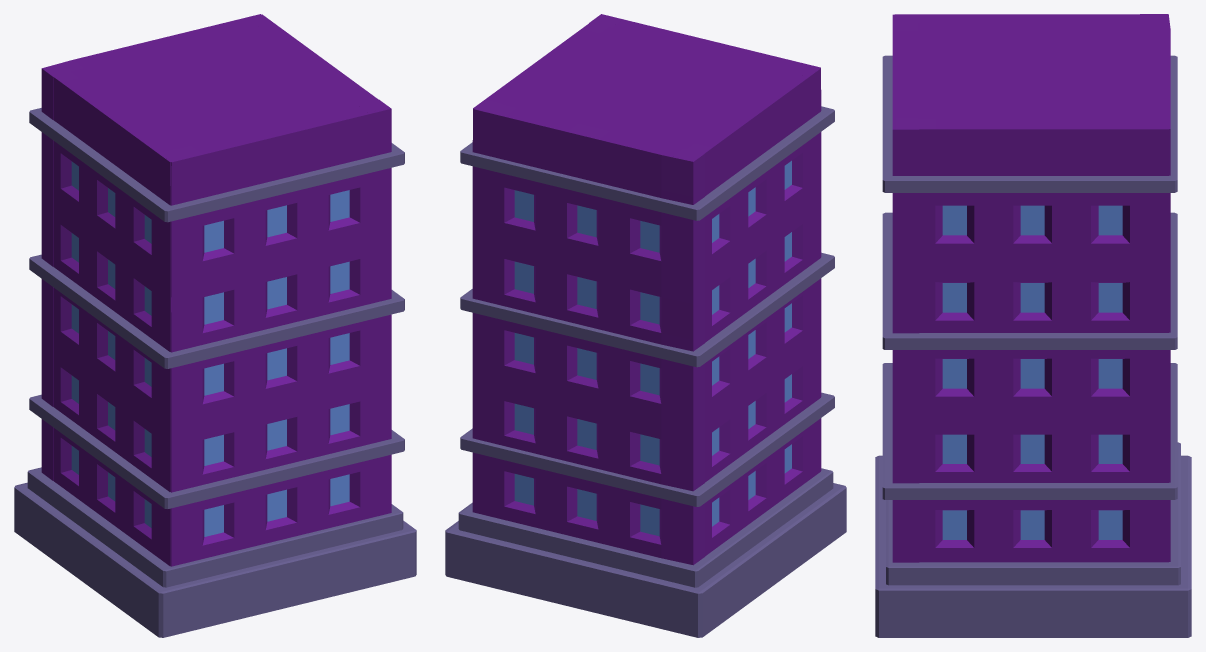
File: fbhome_3.fbx
3 renders of one model, left to right at view 1: azimuth 30°, elevation 25°; view 2: azimuth 150°, elevation 25°; view 3: azimuth 270°, elevation 25°, orthographic. The views are drawn at different scales.
Parts seen in each view (by area): view 1: Cube.008; view 2: Cube.008; view 3: Cube.008.
Boxes of the visible parts, x1,y1,x2,y2 form: Cube.008: (14, 14, 416, 637); Cube.008: (445, 14, 846, 637); Cube.008: (875, 14, 1191, 637).
Bounding box in the file's own units: 380 × 657 × 377.
